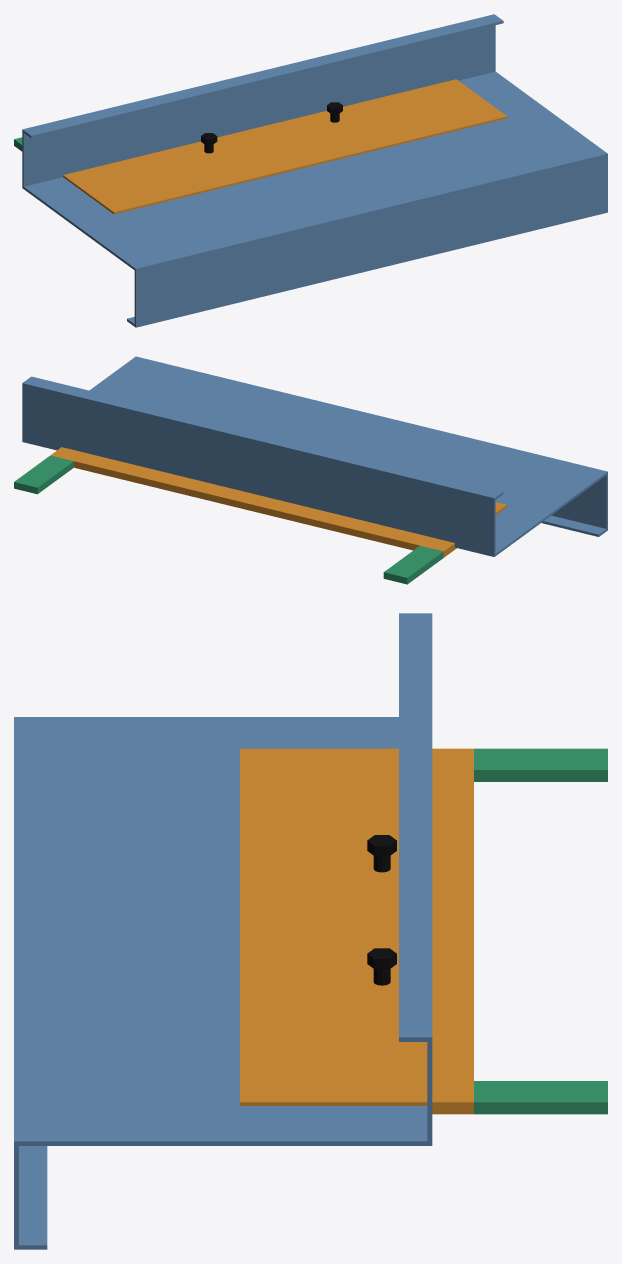
The model's file is detail_L_purlin_bracket.obj.
The picture shows the model from 3 angles, top to bottom: view 1: azimuth 30°, elevation 25°; view 2: azimuth 150°, elevation 25°; view 3: azimuth 270°, elevation 25°; orthographic projection. The views are drawn at different scales.
Parts seen in each view (by area): view 1: L_Z250_purlin_web_Z250, L_Z250_purlin_top_flange_Z250, L_Z250_purlin_bottom_flange_Z250, L_plate_500_length_bracket, L_Z250_purlin_bottom_lip_Z250, L_Z250_purlin_top_lip_Z250; view 2: L_Z250_purlin_bottom_flange_Z250, L_Z250_purlin_web_Z250, L_plate_500_length_bracket, L_Z250_purlin_bottom_lip_Z250, L_Z250_purlin_top_flange_Z250, L_30mm_return_plate, L_30mm_return_plate_far, L_Z250_purlin_top_lip_Z250; view 3: L_Z250_purlin_web_Z250, L_plate_500_length_bracket, L_Z250_purlin_bottom_lip_Z250, L_30mm_return_plate, L_30mm_return_plate_far, L_Z250_purlin_bottom_flange_Z250, L_Z250_purlin_top_lip_Z250, bolt_M12_L_M12x30_2, bolt_M12_L_M12x30_1.
Part boxes in pixels (x1,y1,x2,y2): L_Z250_purlin_web_Z250: [22, 71, 607, 270]; L_Z250_purlin_top_flange_Z250: [134, 156, 607, 327]; L_Z250_purlin_bottom_flange_Z250: [22, 14, 495, 187]; L_plate_500_length_bracket: [63, 79, 507, 214]; L_Z250_purlin_bottom_lip_Z250: [22, 15, 503, 138]; L_Z250_purlin_top_lip_Z250: [127, 211, 605, 327]; L_Z250_purlin_bottom_flange_Z250: [22, 382, 495, 555]; L_Z250_purlin_web_Z250: [22, 356, 607, 556]; L_plate_500_length_bracket: [50, 447, 507, 557]; L_Z250_purlin_bottom_lip_Z250: [22, 376, 503, 499]; L_Z250_purlin_top_flange_Z250: [551, 474, 607, 528]; L_30mm_return_plate: [383, 545, 443, 584]; L_30mm_return_plate_far: [14, 455, 73, 494]; L_Z250_purlin_top_lip_Z250: [541, 515, 607, 536]; L_Z250_purlin_web_Z250: [14, 717, 432, 1145]; L_plate_500_length_bracket: [240, 748, 473, 1114]; L_Z250_purlin_bottom_lip_Z250: [399, 613, 432, 1041]; L_30mm_return_plate: [474, 748, 607, 781]; L_30mm_return_plate_far: [474, 1081, 607, 1114]; L_Z250_purlin_bottom_flange_Z250: [427, 613, 432, 1142]; L_Z250_purlin_top_lip_Z250: [14, 1146, 47, 1249]; bolt_M12_L_M12x30_2: [367, 948, 396, 985]; bolt_M12_L_M12x30_1: [367, 835, 396, 872].
Bounding box in the file's own units: 600 × 140 × 355.
